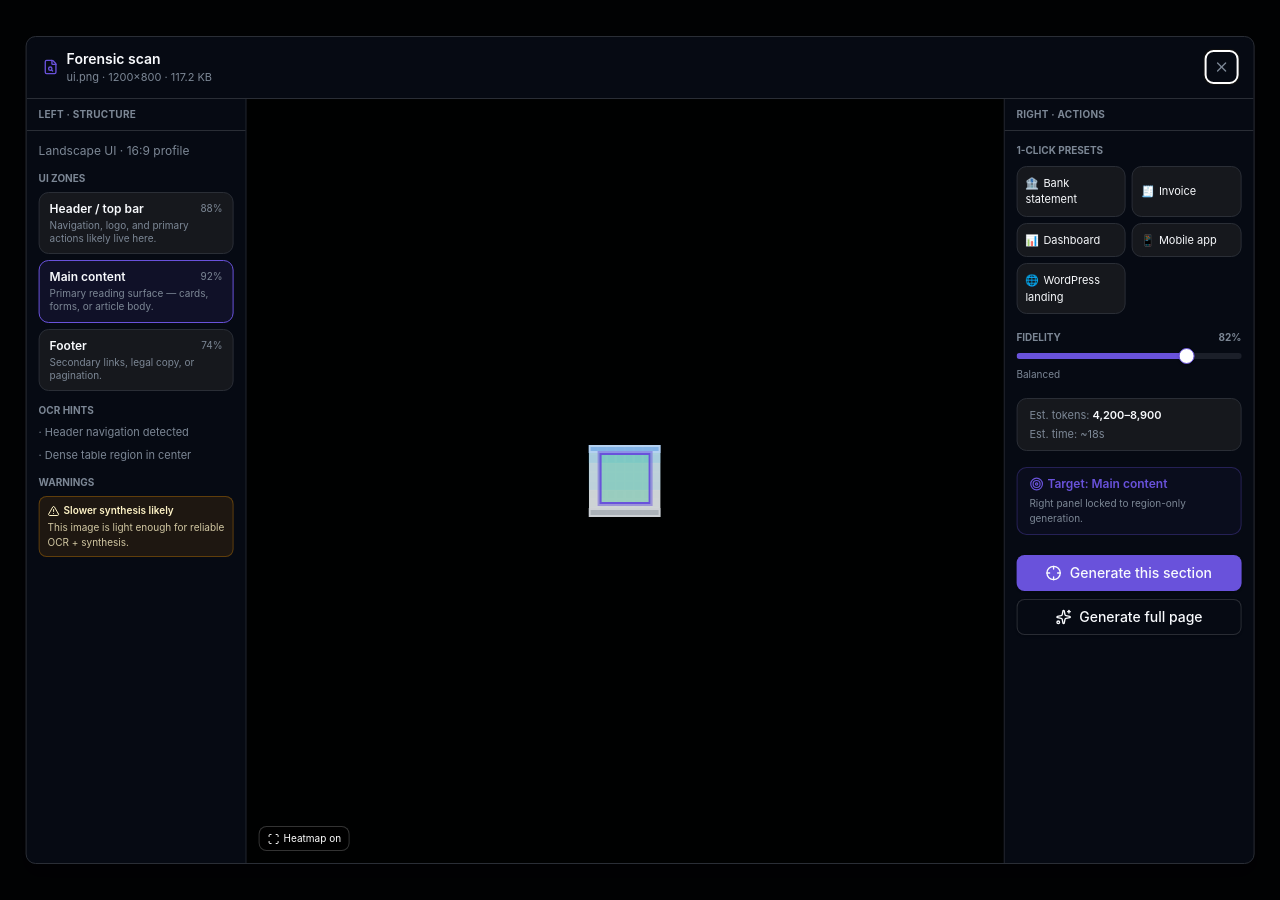
it: buttons › forensic-lightbox › preset Mobile app — toggles active state
The width and height of the screenshot is (1280, 900).
Later steps or results of the test are not shown.
Click the button "📱Mobile app": (1187,240) left=1132, top=222, right=1241, bottom=257
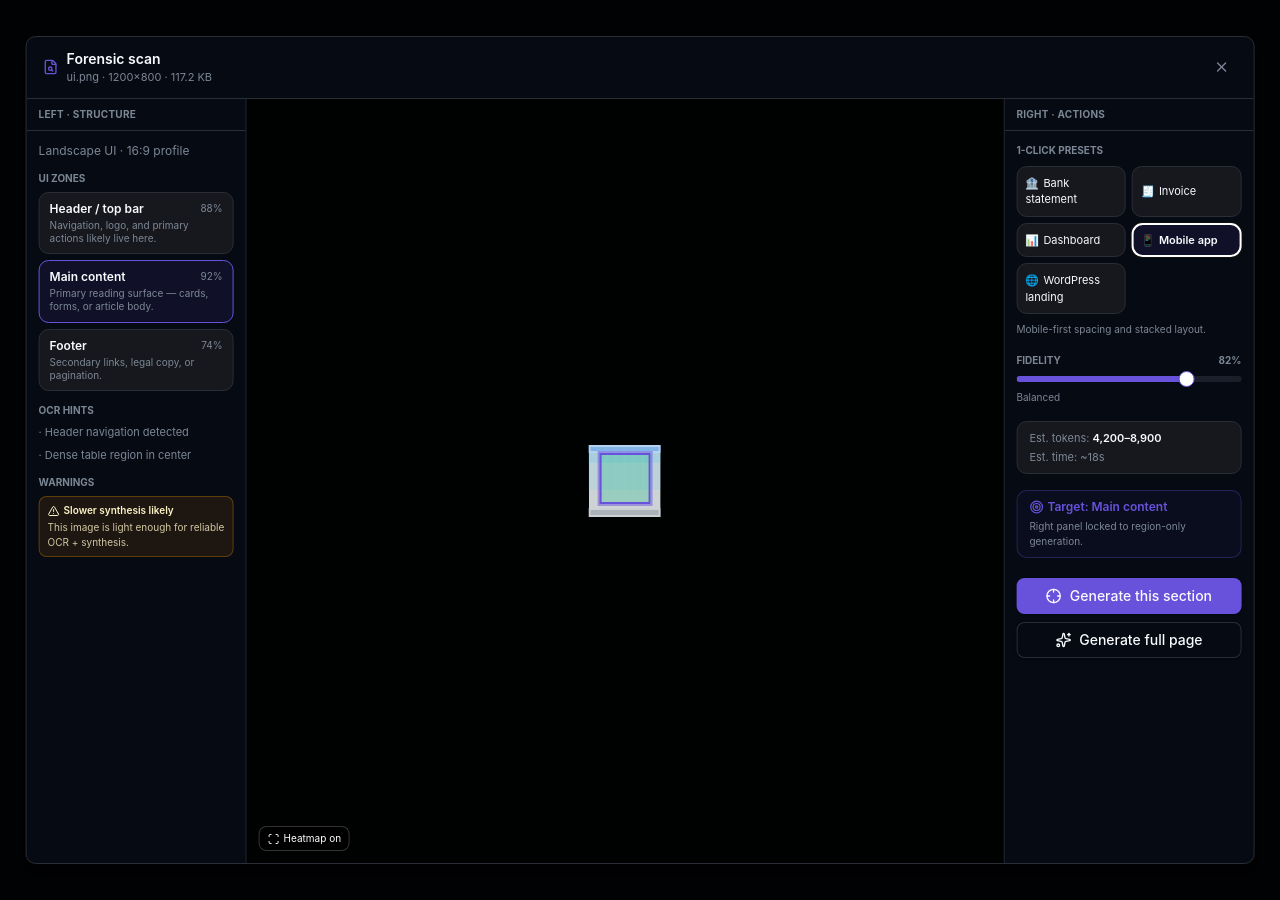
Result: the button "📱Mobile app" has class "border-primary" at left=1132, top=222, right=1241, bottom=257
